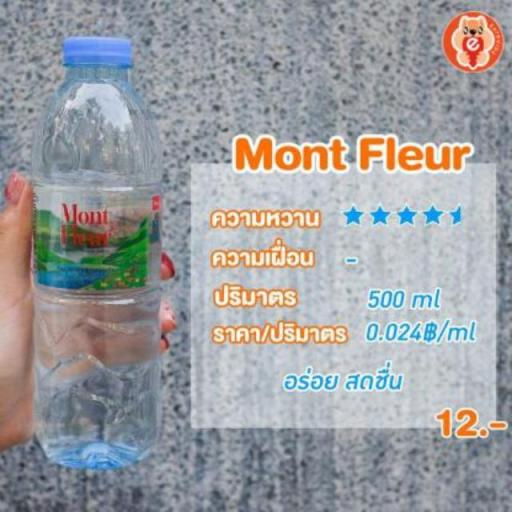Coca: (22, 23, 173, 481)
